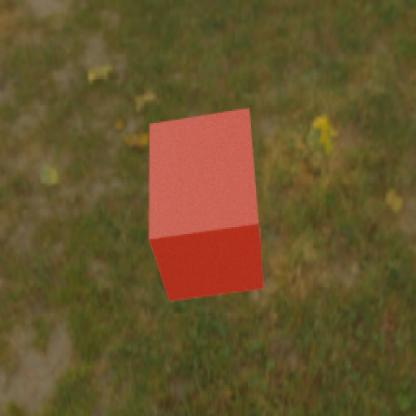cube: (148, 107, 264, 302)
